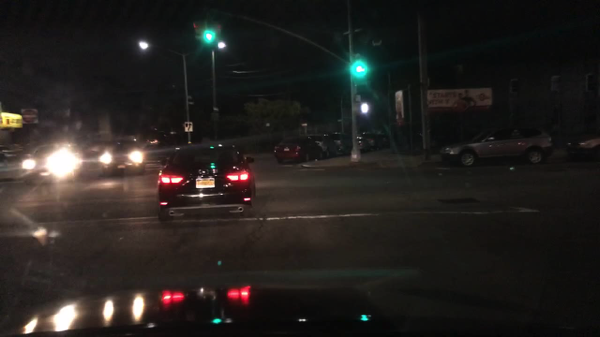car: (157, 144, 256, 221), (438, 124, 554, 168), (24, 143, 80, 186), (100, 139, 146, 179), (272, 137, 325, 165), (564, 133, 599, 164), (308, 132, 338, 159), (330, 132, 354, 154), (363, 130, 382, 149), (0, 145, 21, 161), (355, 136, 370, 154), (380, 134, 390, 146)
traffic light: (191, 18, 203, 42), (352, 53, 364, 75), (213, 19, 223, 41), (205, 18, 213, 41), (358, 103, 368, 116)
traffic sign: (22, 109, 40, 125), (210, 111, 220, 120), (184, 121, 192, 132), (188, 100, 196, 105)
